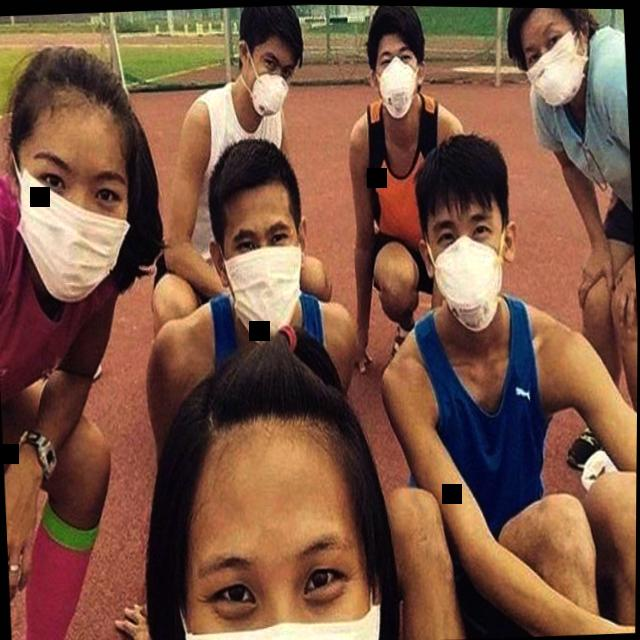Mask: (122, 362, 409, 640), (2, 43, 147, 311), (201, 139, 331, 349), (412, 135, 532, 334), (499, 6, 609, 120), (227, 3, 309, 130), (356, 4, 440, 127)
